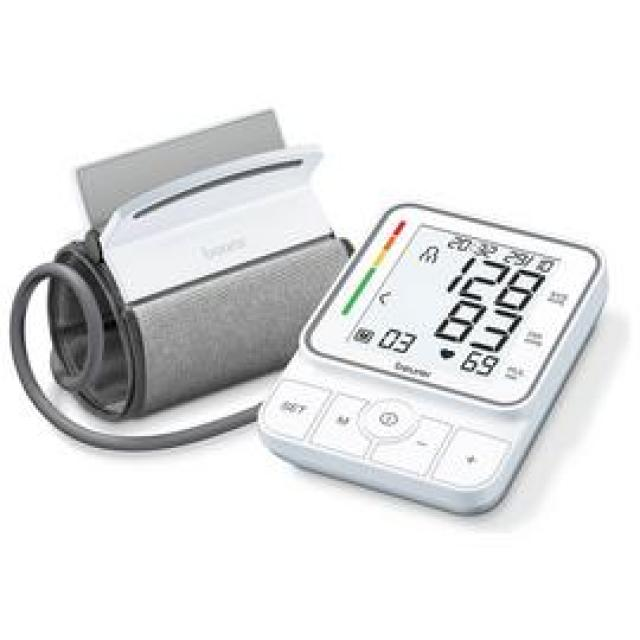dia: (421, 288, 534, 363)
pul: (448, 340, 512, 385)
ssd: (347, 213, 565, 393)
sys: (434, 245, 549, 317)
